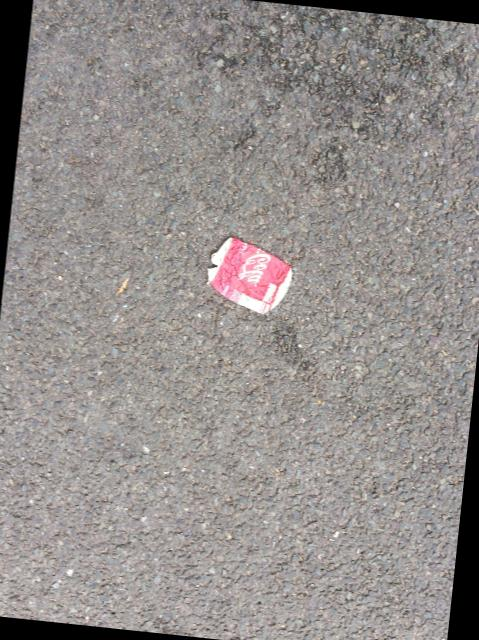metal: (207, 237, 292, 313)
